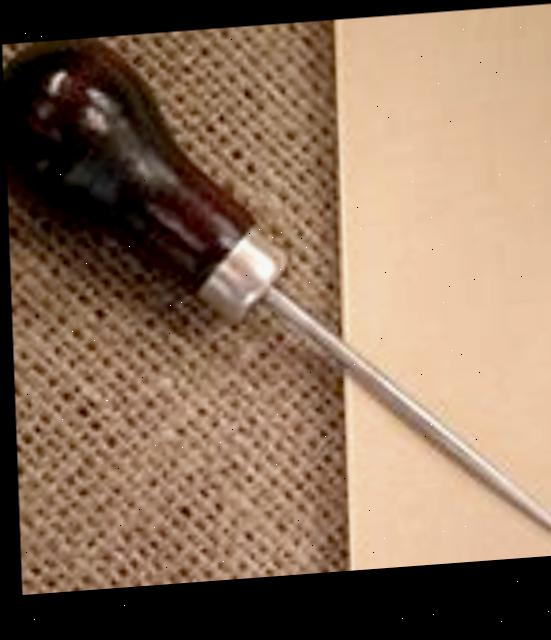ice pick: (1, 12, 551, 595)
